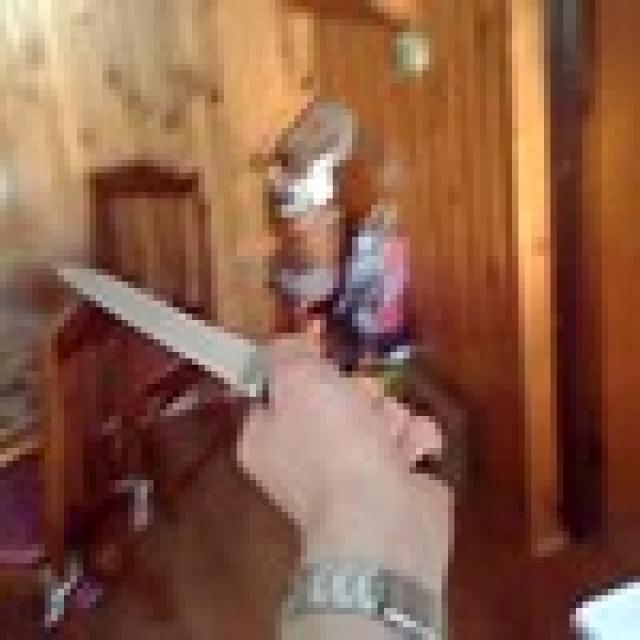Knife: (56, 256, 300, 416)
